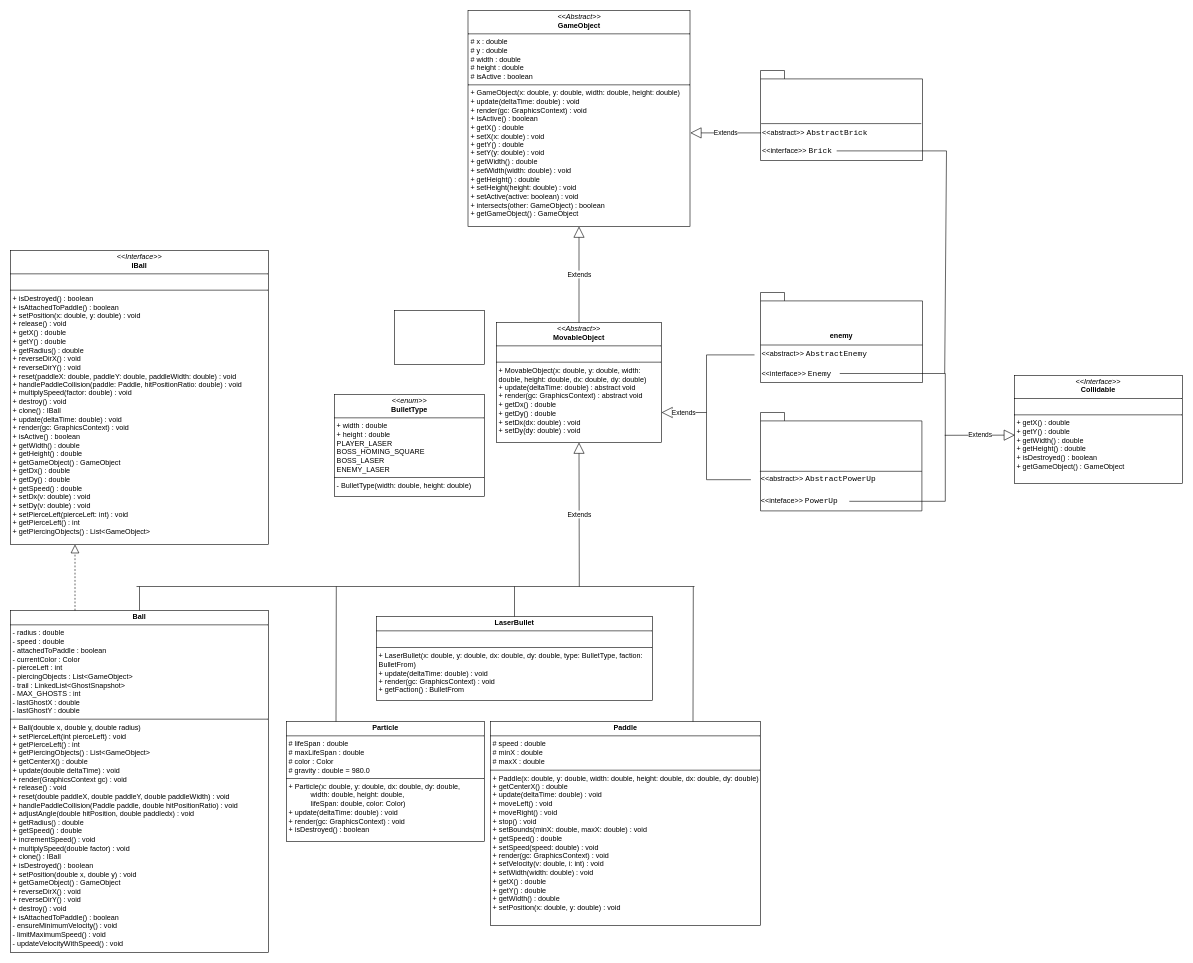
The diagram is 1193 pixels wide and 963 high, and some of its shapes have lost their labels. Here are the shapes that lost their labels. From the top down, the box of each, then its label:
(760, 70, 922, 160): bricks
(394, 310, 484, 364): <<enum>> BulletFrom PLAYER ENEMY
(760, 412, 922, 511): powerups
